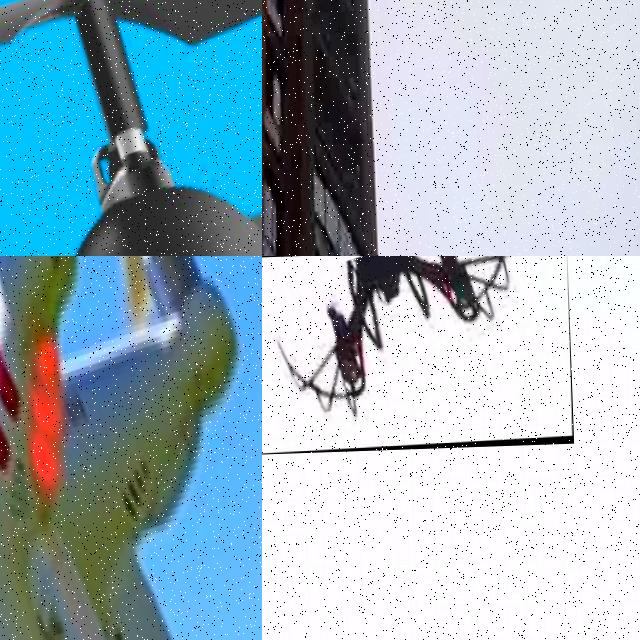0: (262, 256, 574, 455)
drone: (0, 256, 262, 640), (0, 0, 262, 256)
